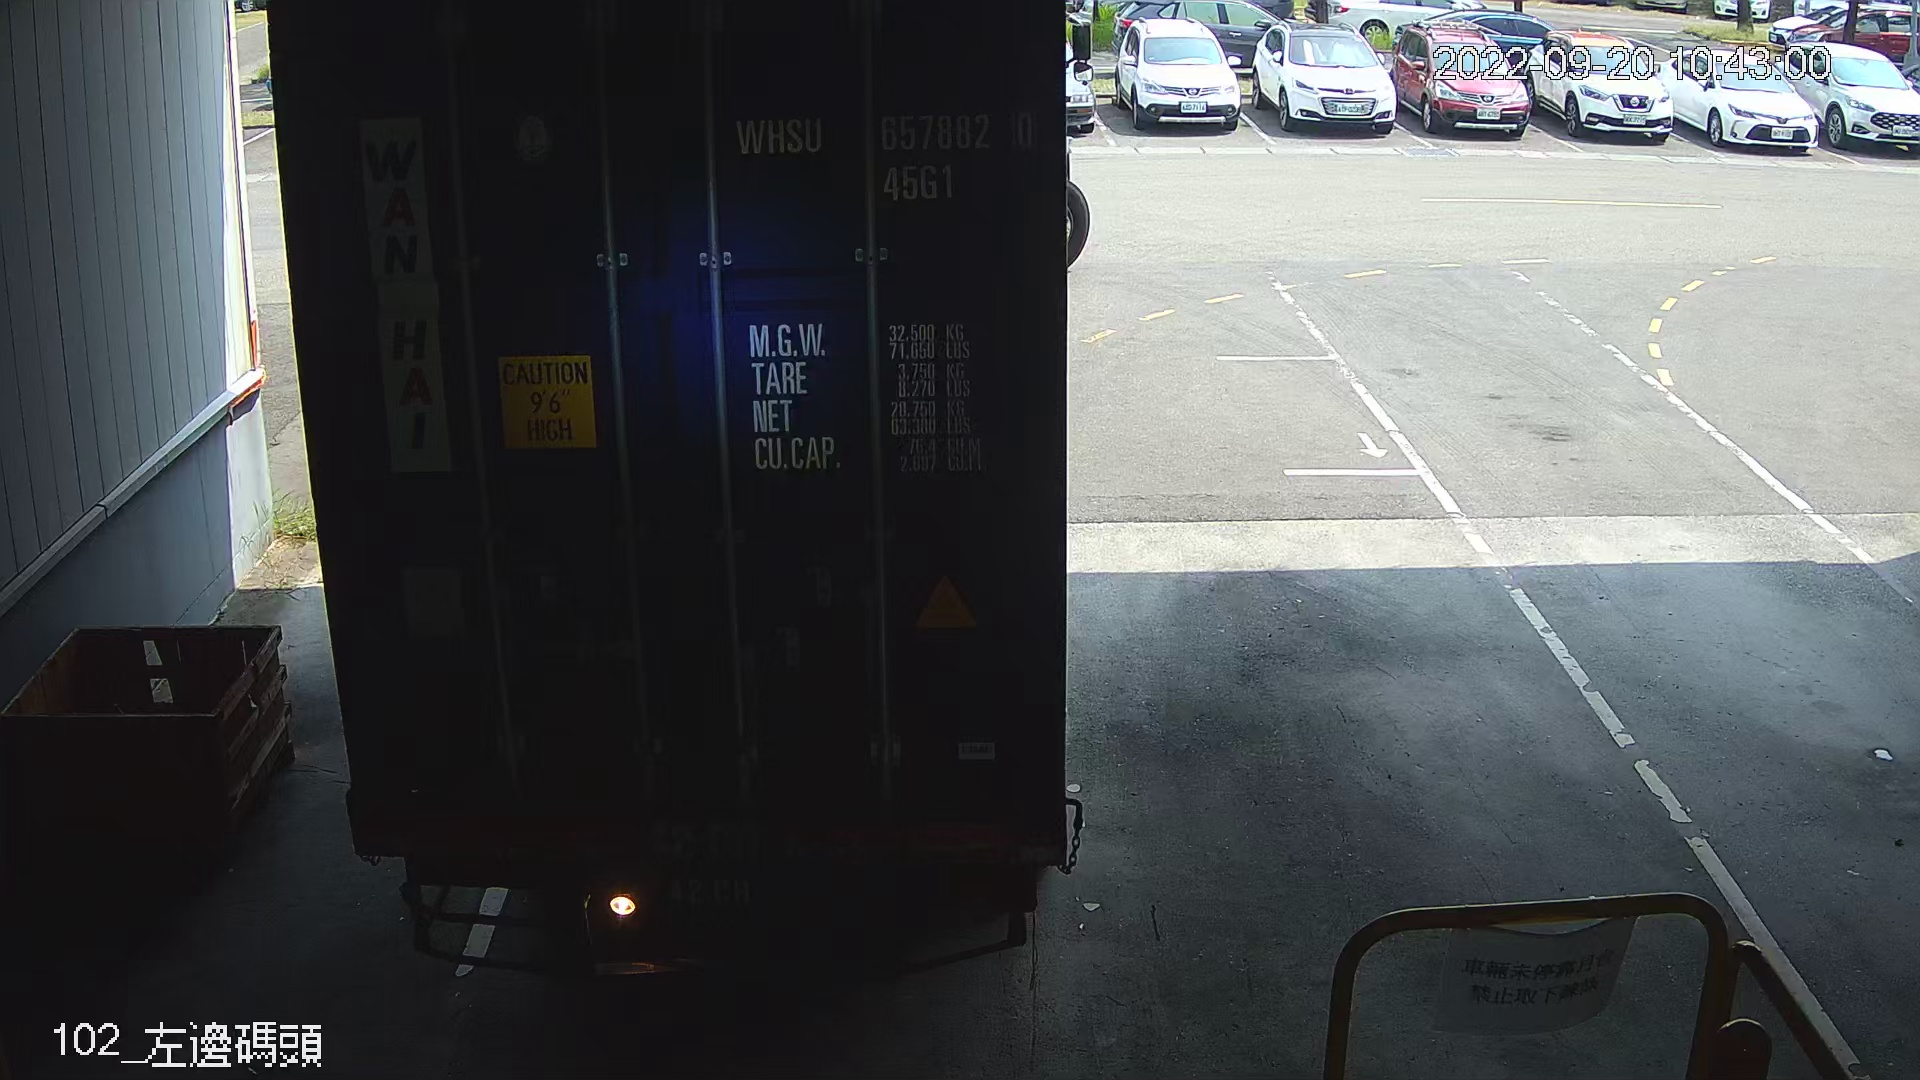container: (723, 102, 1042, 214)
